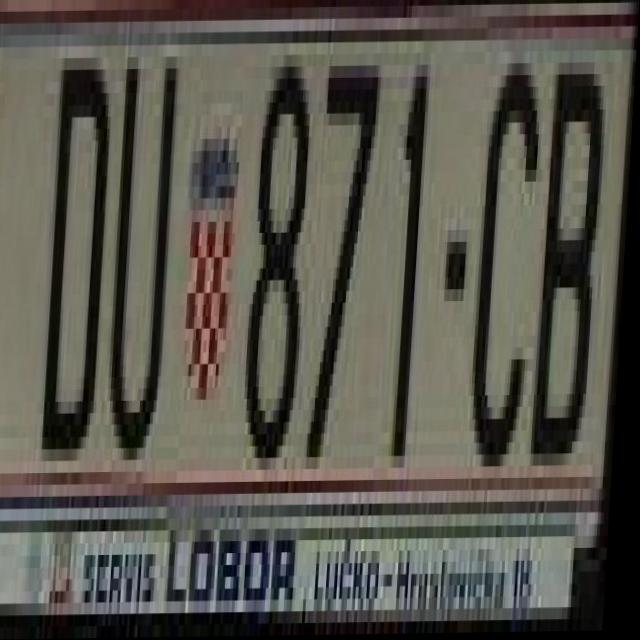1: (385, 90, 447, 481)
7: (303, 67, 380, 458)
8: (243, 67, 320, 459)
B: (535, 52, 624, 468)
C: (470, 53, 547, 468)
D: (43, 58, 123, 473)
U: (101, 57, 186, 473)
